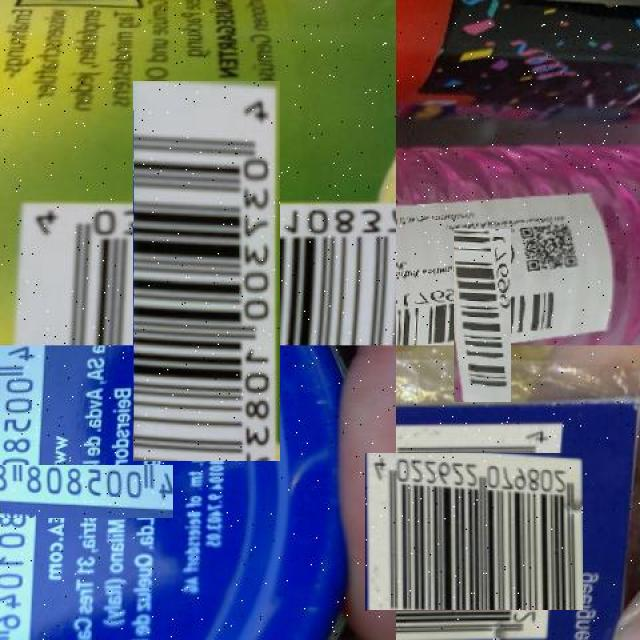Barcode: (74, 140, 338, 403), (380, 437, 568, 625), (0, 405, 113, 578), (425, 258, 540, 374)
